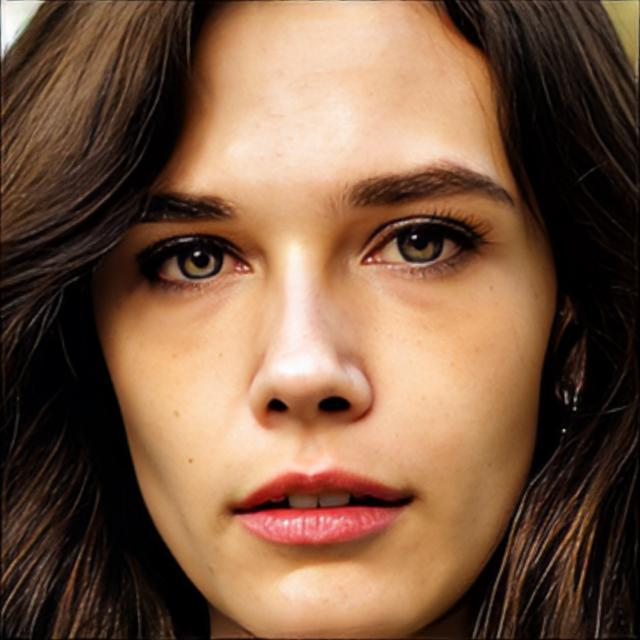neutral: (97, 0, 558, 640)
